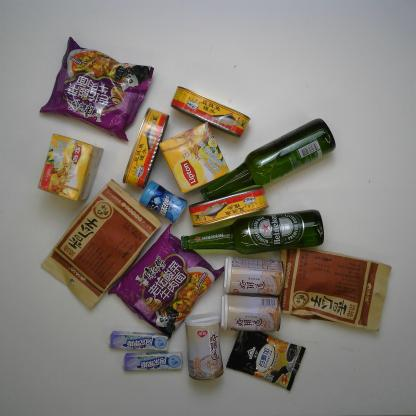Alcohol: (200, 118, 336, 202), (180, 209, 325, 255)
Candy: (110, 329, 173, 353), (122, 352, 183, 373)
Canned Food: (120, 106, 172, 191), (171, 85, 250, 137), (188, 186, 271, 229), (182, 310, 225, 382), (226, 254, 286, 297), (219, 294, 282, 334)
Dried Food: (41, 177, 164, 311), (278, 242, 394, 334)
Gum: (136, 182, 188, 223)
Instant Drink: (226, 326, 307, 392), (160, 120, 230, 193), (37, 134, 102, 203)
Instant Noodles: (106, 223, 226, 338), (39, 34, 155, 142)
